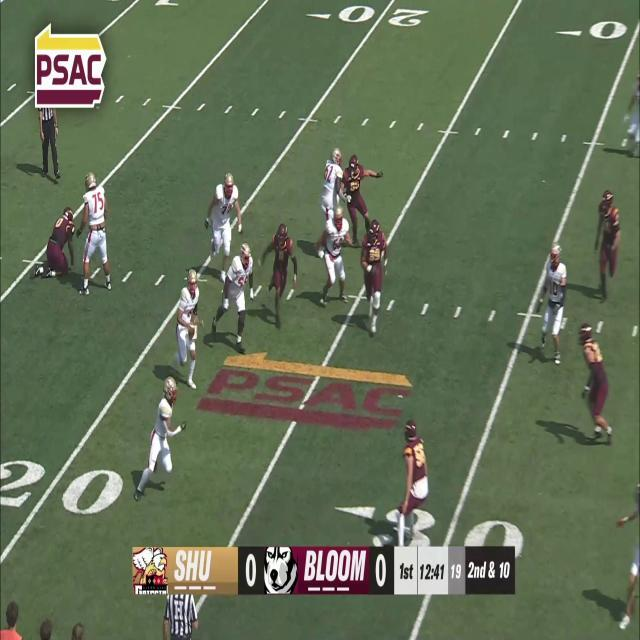football: (186, 321, 196, 344)
